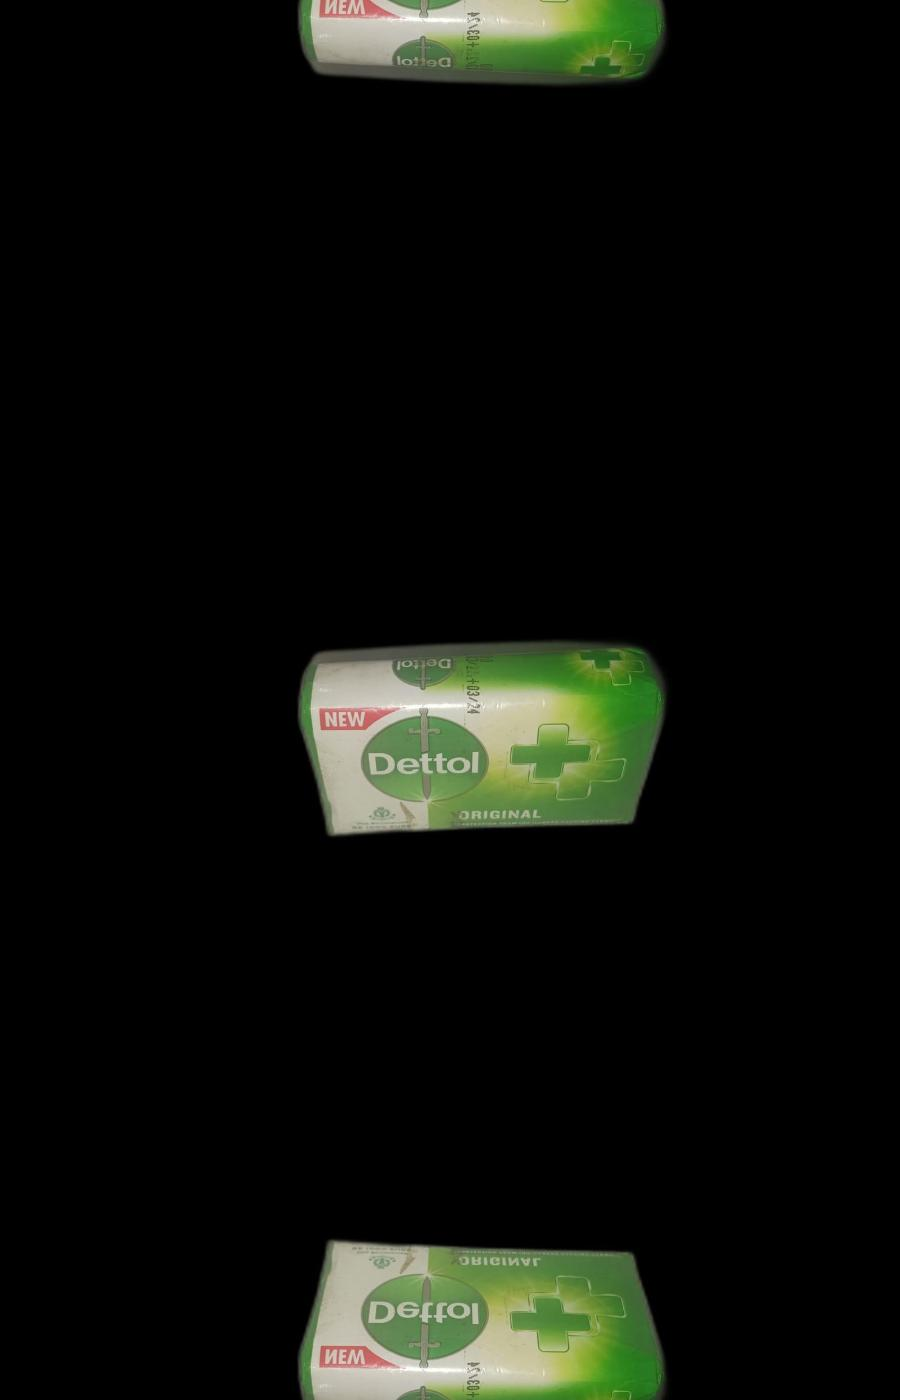Dettol Bathing Soap Bar - Original 125g: (297, 634, 661, 843), (296, 1231, 661, 1400), (296, 0, 661, 90)
